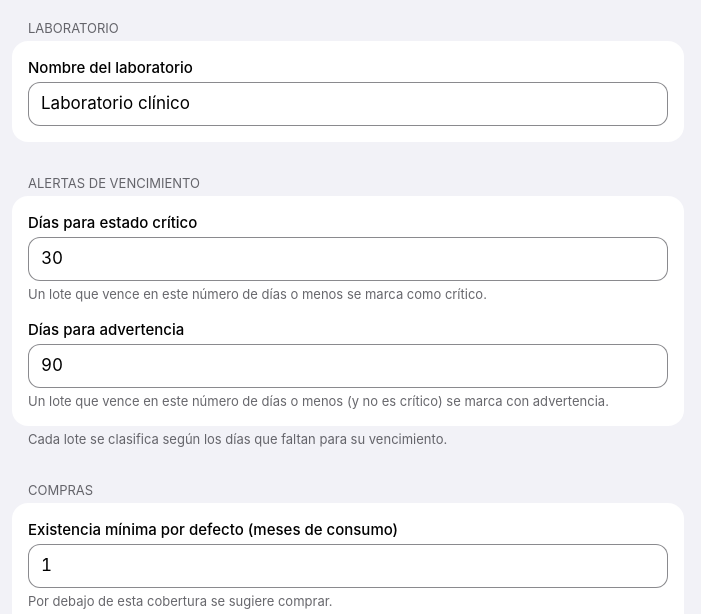
Test case: SettingsPage › general settings › requires critical days to be lower than warning days
Replace the text in the field labelled "Días para estado crítico" with "90" at (348, 259), box x1=28 y1=237 x2=668 y2=281
(page scrolled)
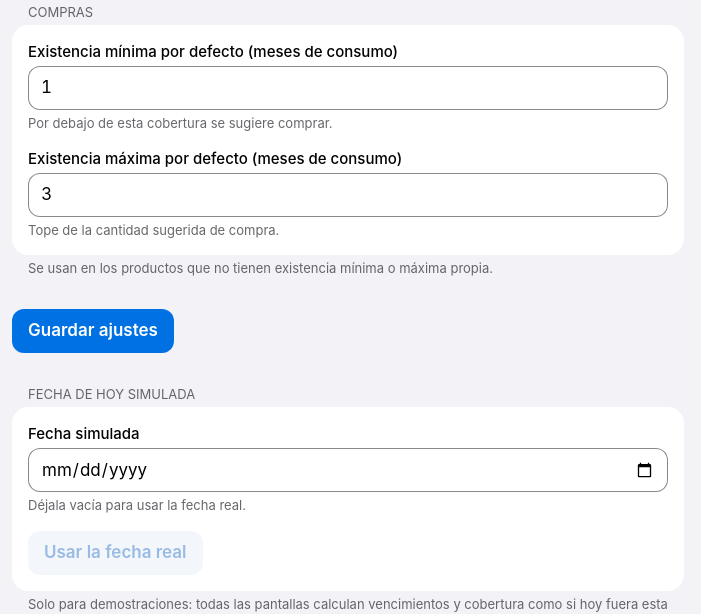
Click the button "Guardar ajustes" at (93, 331), box x1=12 y1=309 x2=174 y2=353
(page scrolled)
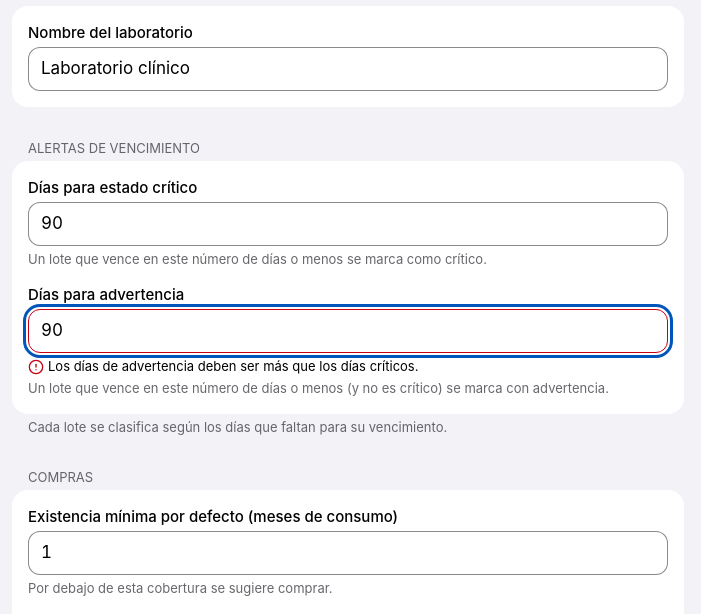
expect the text "Los días de advertencia deben ser más que los días críticos." is shown: met, box x1=48 y1=357 x2=418 y2=375
